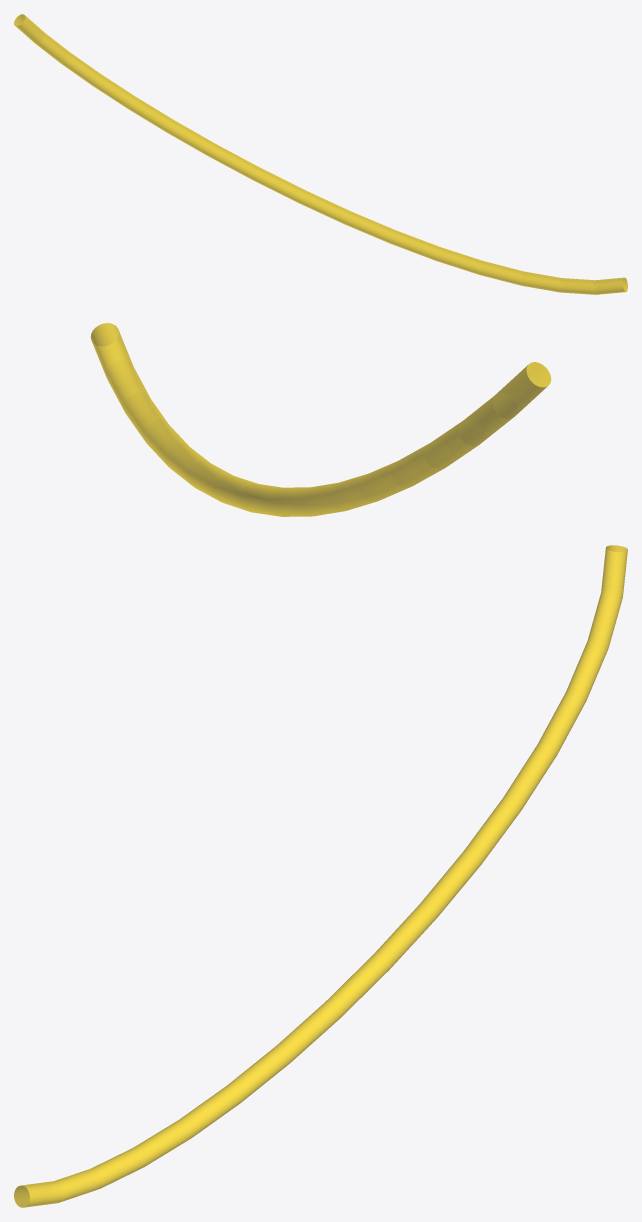
Rendered from Event_75125125_track_79.fbx.
The picture shows the model from 3 angles, top to bottom: view 1: azimuth 30°, elevation 25°; view 2: azimuth 150°, elevation 25°; view 3: azimuth 270°, elevation 25°; orthographic projection. The views are drawn at different scales.
Visible parts, largest first — view 1: Model; view 2: Model; view 3: Model.
Boxes of the visible parts, left/top/right/bottom form: Model: left=14, top=14, right=627, bottom=294; Model: left=90, top=323, right=551, bottom=516; Model: left=14, top=545, right=627, bottom=1207.
Bounding box in the file's own units: 1.33 × 0.7292 × 1.1.
